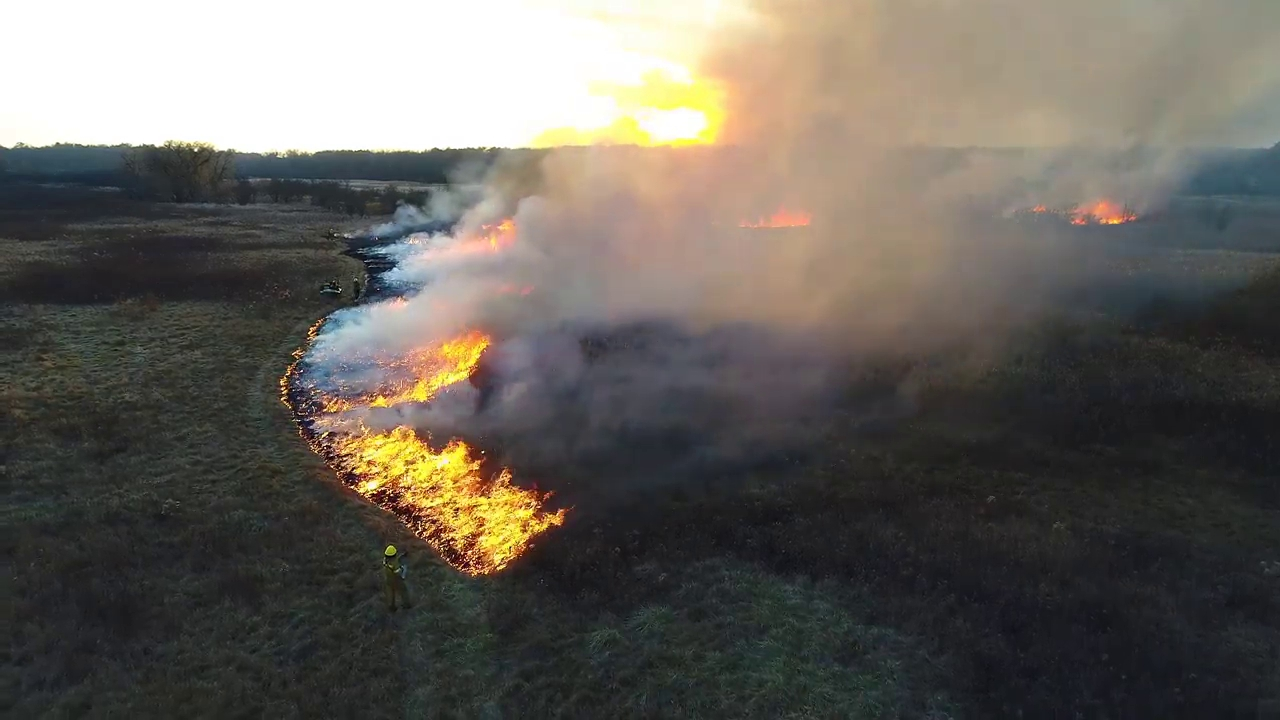forest_fire: (280, 322, 565, 573), (1014, 199, 1137, 225), (739, 208, 811, 228), (470, 220, 512, 248), (387, 300, 401, 301)
